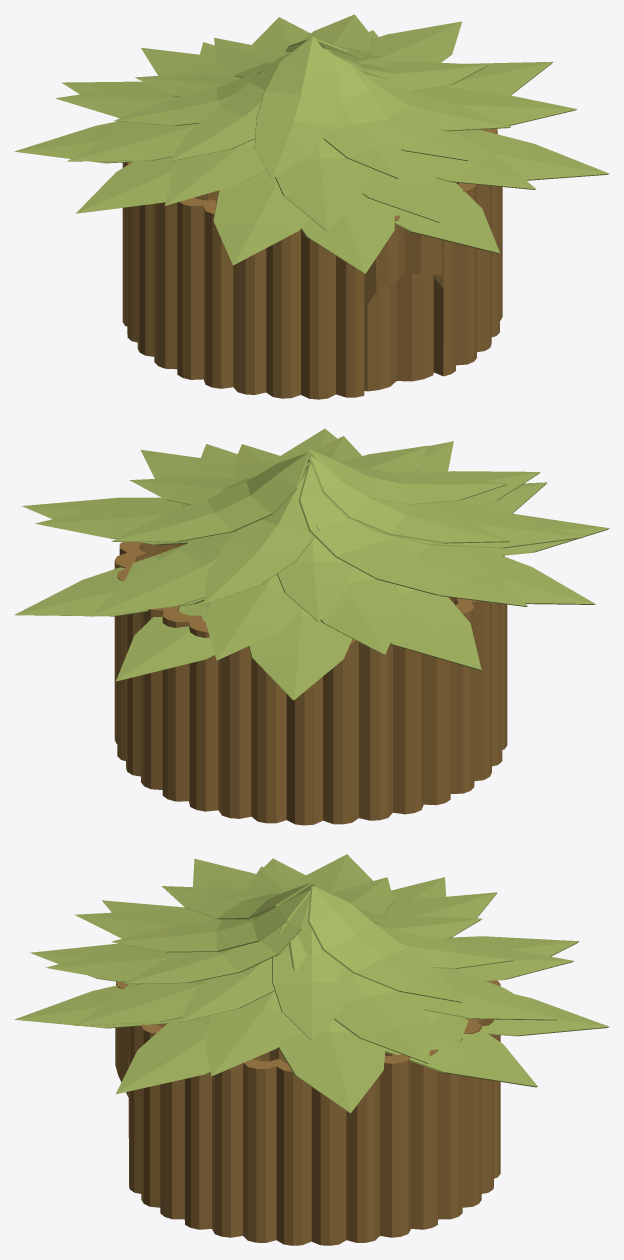
File: Bamboo_House.fbx
The picture shows the model from 3 angles, top to bottom: view 1: azimuth 30°, elevation 25°; view 2: azimuth 150°, elevation 25°; view 3: azimuth 270°, elevation 25°; orthographic projection. The views are drawn at different scales.
Visible parts, largest first — view 1: Leaf.026, Circle; view 2: Leaf.026, Circle; view 3: Leaf.026, Circle.
Part boxes in pixels (x1,y1,x2,y2): Leaf.026: [14, 14, 609, 273]; Circle: [122, 128, 502, 399]; Leaf.026: [14, 428, 609, 700]; Circle: [114, 542, 507, 825]; Leaf.026: [14, 854, 609, 1113]; Circle: [115, 980, 500, 1245].
Size of the model in its own units: 467 by 245 by 466.
